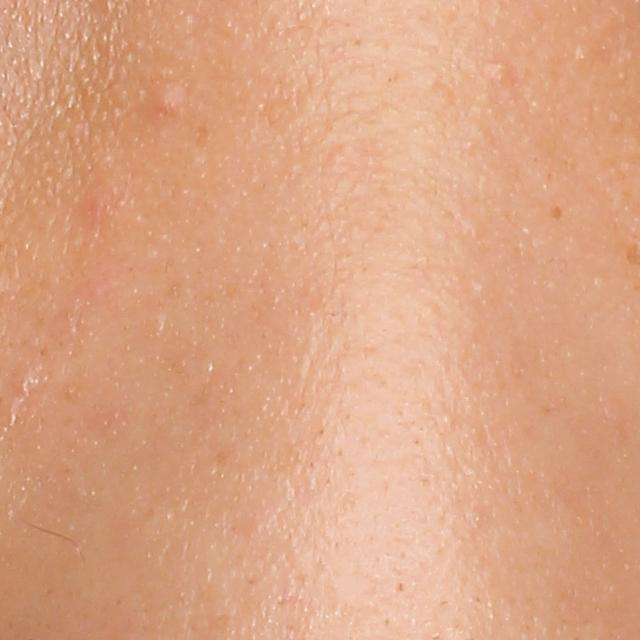comedo: (484, 52, 512, 89)
